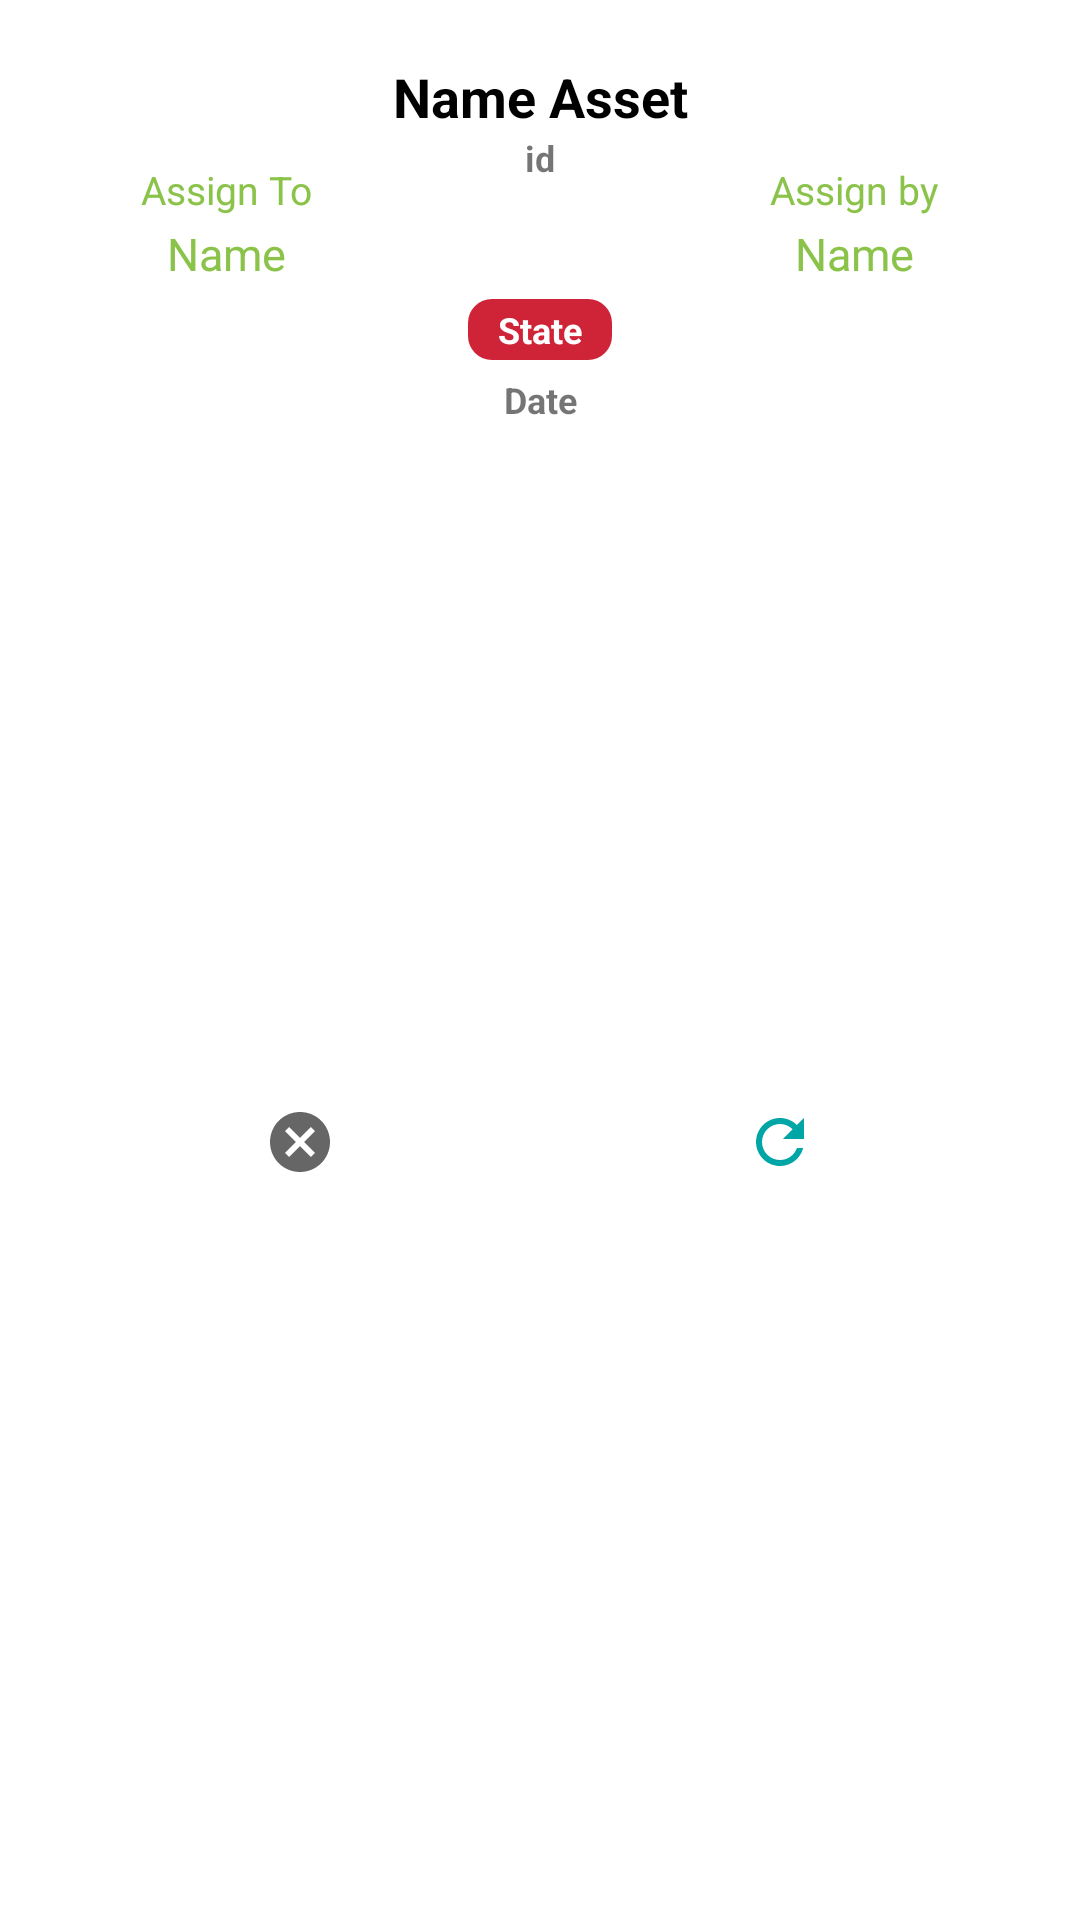

Icons on this 1080w x 1920h Android screen, each with its box as {"left": x1, "top": y1, "right": x2, "bottom": y2}:
cancel: {"left": 270, "top": 1112, "right": 330, "bottom": 1172}
refresh: {"left": 756, "top": 1118, "right": 804, "bottom": 1166}
